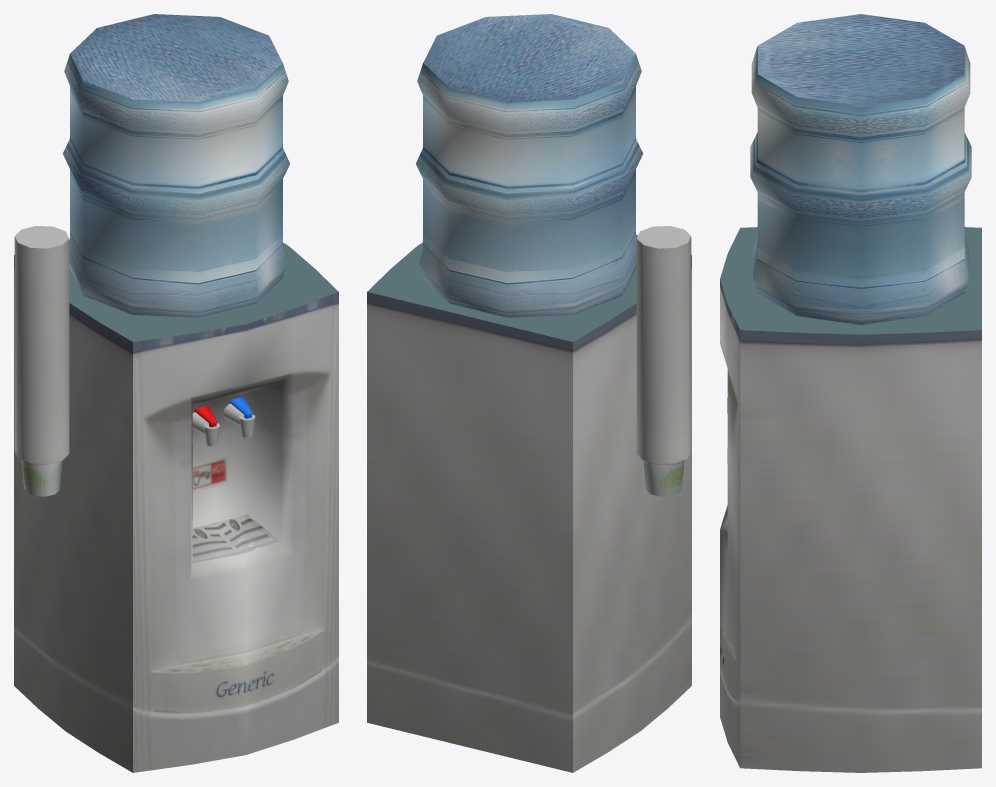
Rendered from Water Jug.fbx.
3 views of the same model, side by side, from view 1: azimuth 30°, elevation 25°; view 2: azimuth 150°, elevation 25°; view 3: azimuth 270°, elevation 25° (orthographic).
Visible parts, largest first — view 1: Cooler_Base, Water_jug, Cup_Holder, Cup; view 2: Cooler_Base, Water_jug, Cup_Holder, Cup; view 3: Cooler_Base, Water_jug.
Part boxes in pixels (bbox=[...]): Cooler_Base: bbox=[14, 242, 338, 772]; Water_jug: bbox=[62, 14, 289, 317]; Cup_Holder: bbox=[14, 226, 69, 463]; Cup: bbox=[21, 460, 62, 496]; Cooler_Base: bbox=[367, 234, 691, 772]; Water_jug: bbox=[416, 14, 643, 317]; Cup_Holder: bbox=[636, 226, 691, 463]; Cup: bbox=[643, 460, 684, 496]; Cooler_Base: bbox=[720, 227, 981, 772]; Water_jug: bbox=[750, 14, 971, 324].
Bounding box in the file's own units: 2.63 × 6 × 2.17.
